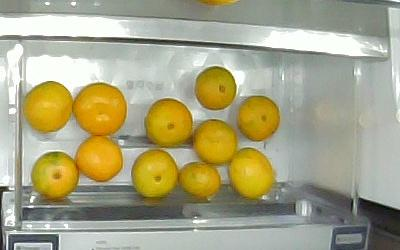tangerine: (75, 80, 128, 136), (21, 80, 73, 133), (228, 146, 277, 200), (143, 98, 194, 148), (32, 150, 80, 202), (132, 150, 181, 200), (76, 134, 124, 182), (237, 95, 282, 143), (194, 119, 238, 165), (195, 67, 238, 111), (180, 161, 222, 198)
